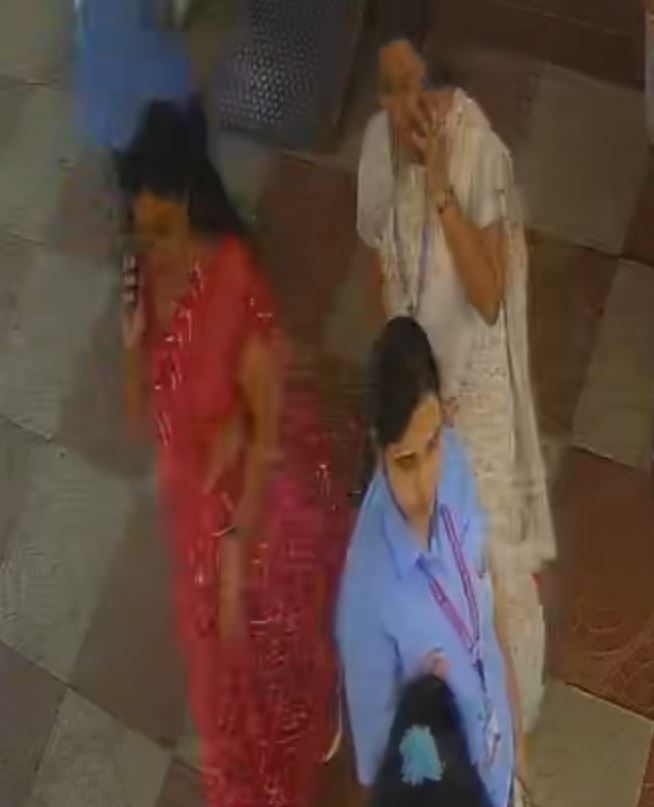intruder: (332, 320, 517, 807)
not intruder: (97, 104, 345, 807), (348, 25, 567, 749)
